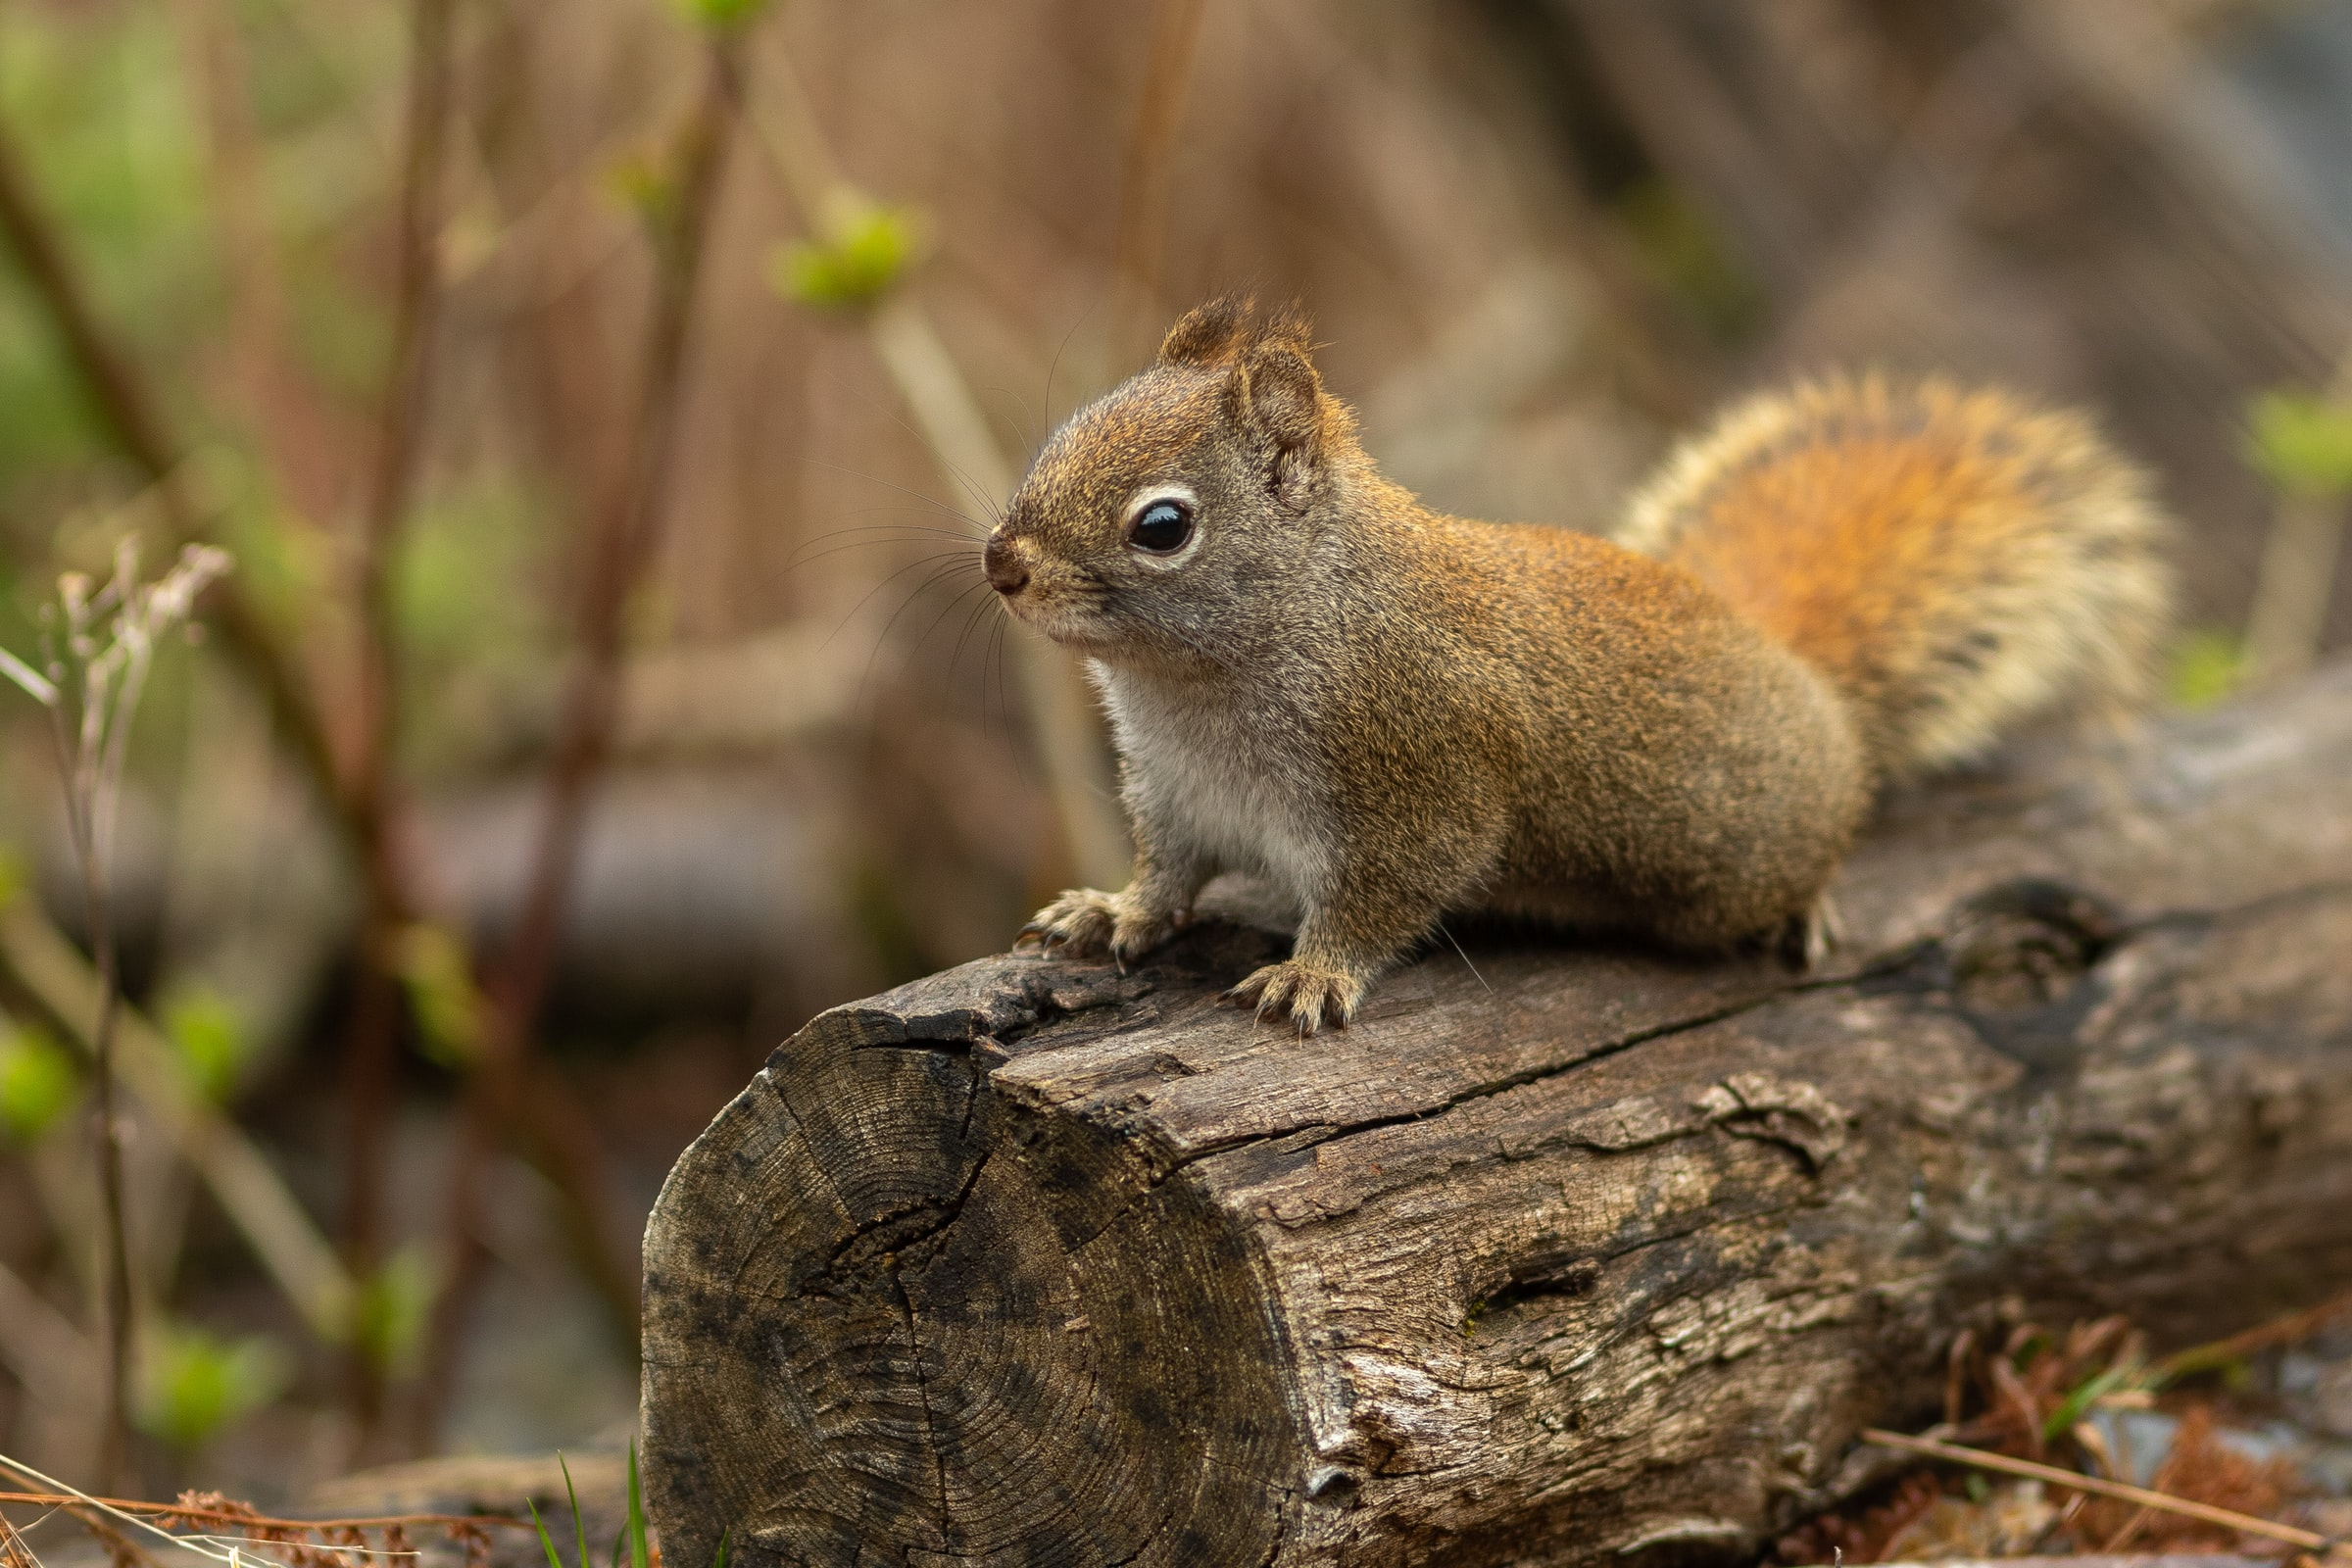squirrel: (959, 283, 2163, 1048)
